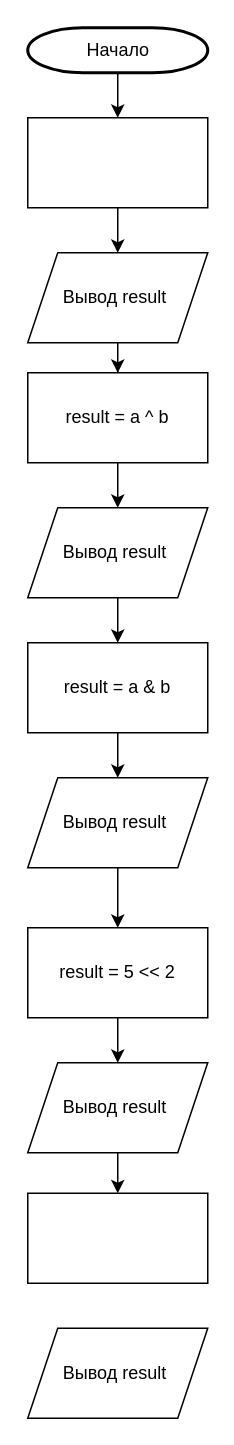
The diagram is 234 pixels wide and 1445 high, and some of its shapes have lost their labels. The shapes that lost their labels are listed below. From the top down, each one's centre as x and y in pixels, then its label:
At pixel 117 162: "result = a | b".
At pixel 117 1237: "result = 5 >> 2".
